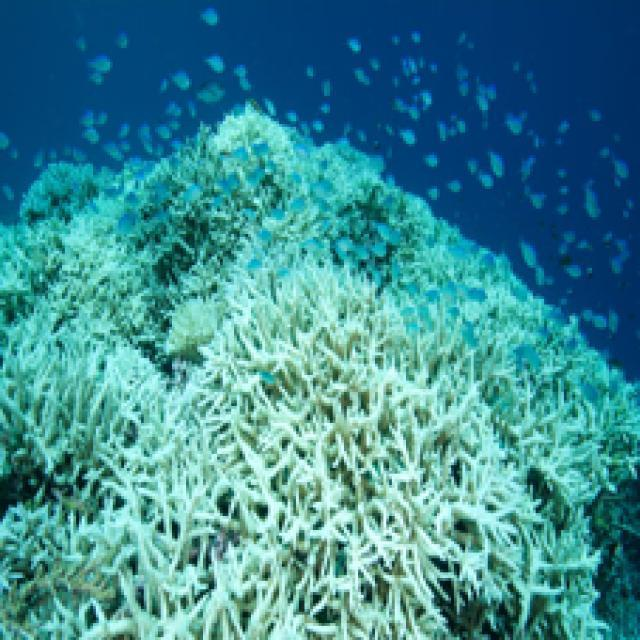Bleached: (230, 326, 512, 561), (1, 500, 446, 640), (478, 336, 640, 501), (439, 495, 609, 640), (389, 192, 549, 344), (1, 314, 150, 474), (88, 366, 234, 504), (214, 262, 394, 363), (1, 221, 142, 334), (244, 149, 368, 264), (216, 105, 296, 164), (163, 294, 221, 362)
